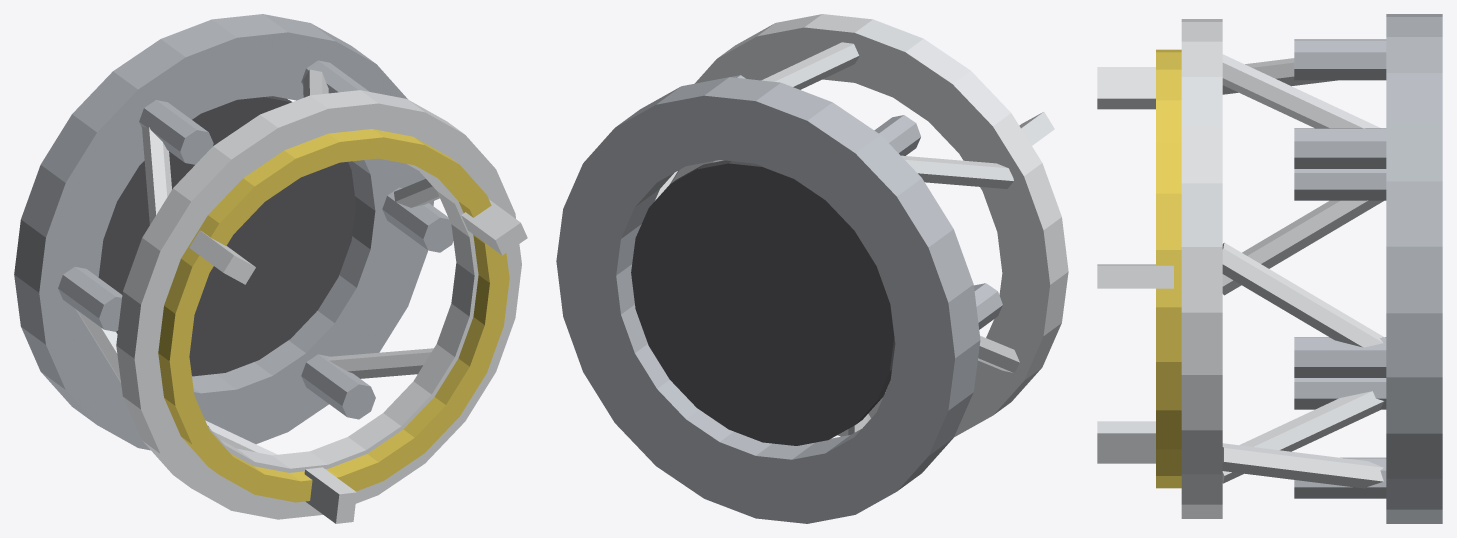
The model's file is orbital-station-and-docking-bays-soft-capture-ring-e5b19578__24548.glb.
The picture shows the model from 3 angles, left to right: view 1: azimuth 30°, elevation 25°; view 2: azimuth 150°, elevation 25°; view 3: azimuth 270°, elevation 25°; orthographic projection. The views are drawn at different scales.
Visible parts, largest first — view 1: soft-capture-ring; view 2: soft-capture-ring; view 3: soft-capture-ring.
Part boxes in pixels (x1,y1,x2,y2): soft-capture-ring: (14, 14, 527, 523); soft-capture-ring: (556, 14, 1068, 523); soft-capture-ring: (1097, 14, 1442, 523).
Size of the model in its own units: 2 by 2 by 1.35.
